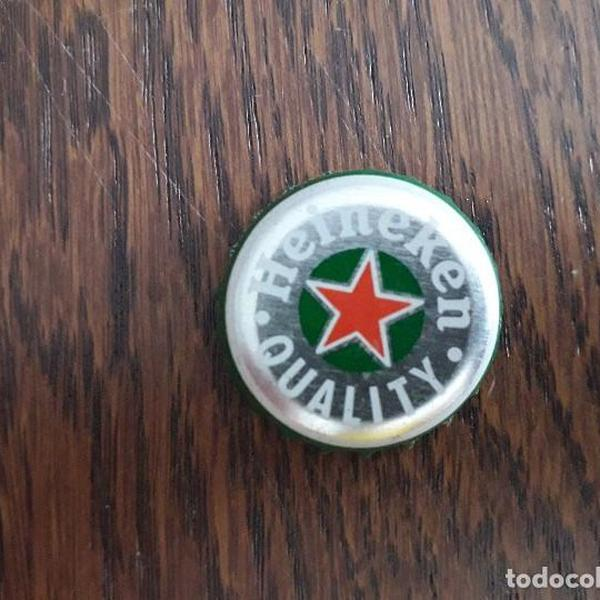heineken: (216, 164, 512, 466)
